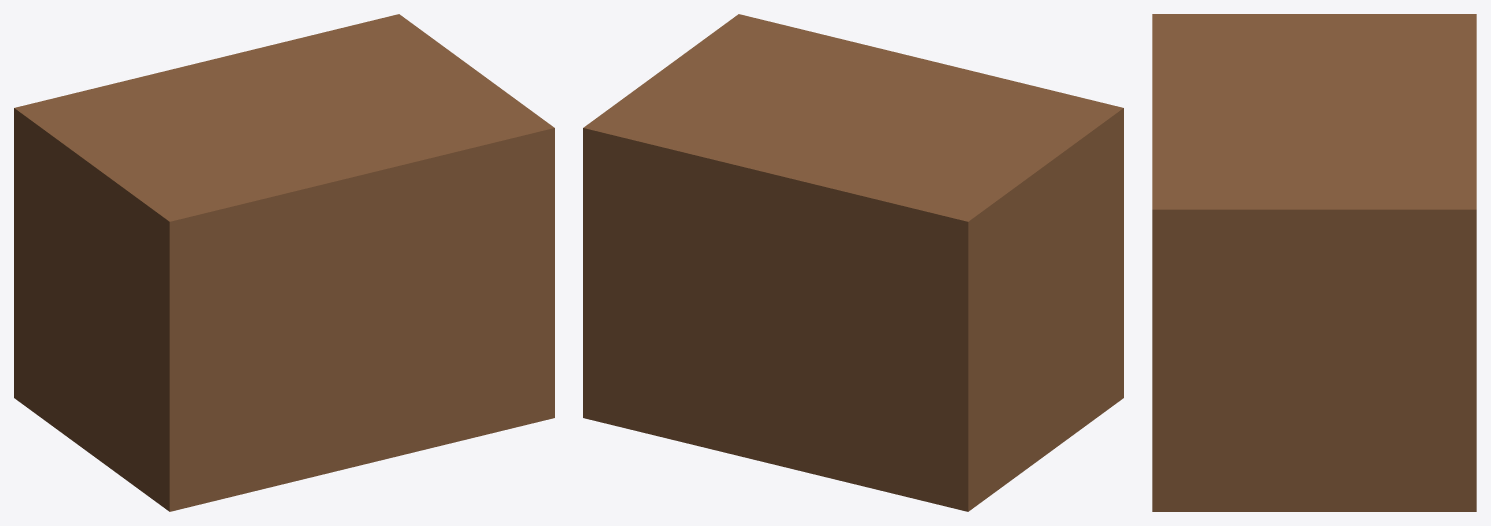
The model's file is sm_product_chicken_crate.glb.
3 renders of one model, left to right at view 1: azimuth 30°, elevation 25°; view 2: azimuth 150°, elevation 25°; view 3: azimuth 270°, elevation 25°, orthographic. The views are drawn at different scales.
Parts seen in each view (by area): view 1: chicken_crate_0; view 2: chicken_crate_0; view 3: chicken_crate_0.
Part boxes in pixels (x1,y1,x2,y2): chicken_crate_0: (14, 14, 554, 511); chicken_crate_0: (583, 14, 1123, 511); chicken_crate_0: (1152, 14, 1476, 511).
Size of what is drawn, in the model's own units: 0.5 by 0.36 by 0.35.
